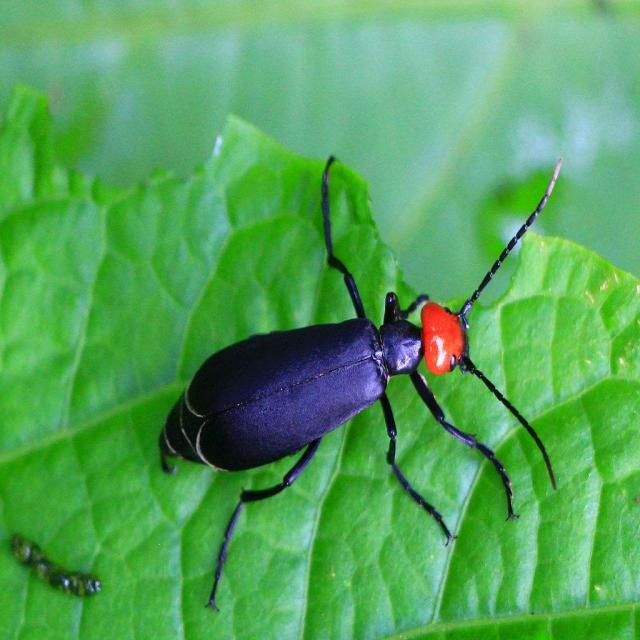BlisterBeetle-Adult-: (150, 132, 568, 568)
